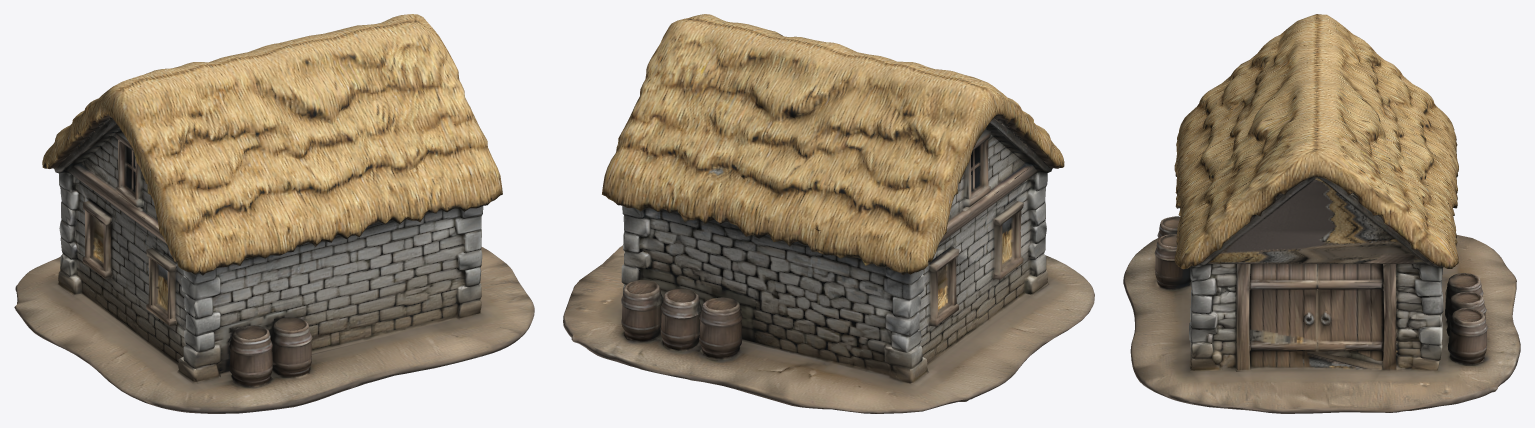
The picture shows the model from 3 angles, left to right: view 1: azimuth 30°, elevation 25°; view 2: azimuth 150°, elevation 25°; view 3: azimuth 270°, elevation 25°; orthographic projection. The views are drawn at different scales.
Parts seen in each view (by area): view 1: repaired; view 2: repaired; view 3: repaired.
Part boxes in pixels (x1,y1,x2,y2): repaired: [14, 14, 534, 413]; repaired: [563, 14, 1094, 413]; repaired: [1123, 14, 1520, 413].
Size of the model in its own units: 0.9997 by 0.5912 by 0.8854.
Materials: 1 (1 with a texture image).
